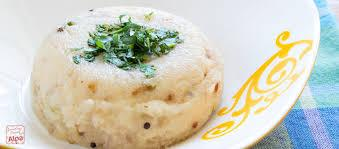upma: (43, 9, 217, 142)
